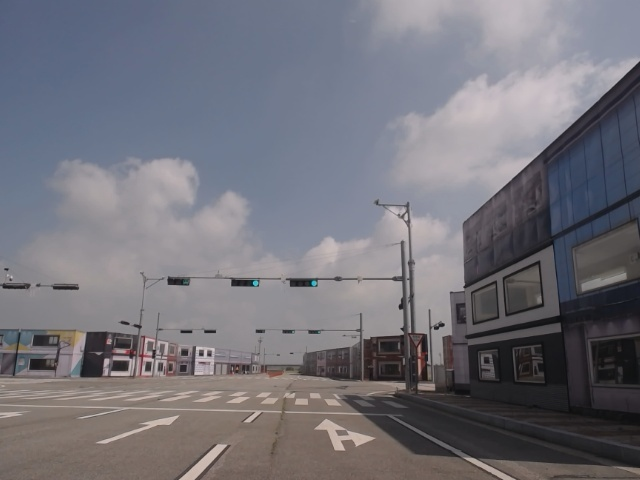straight_green_4: (231, 278, 261, 289), (290, 278, 319, 289)
